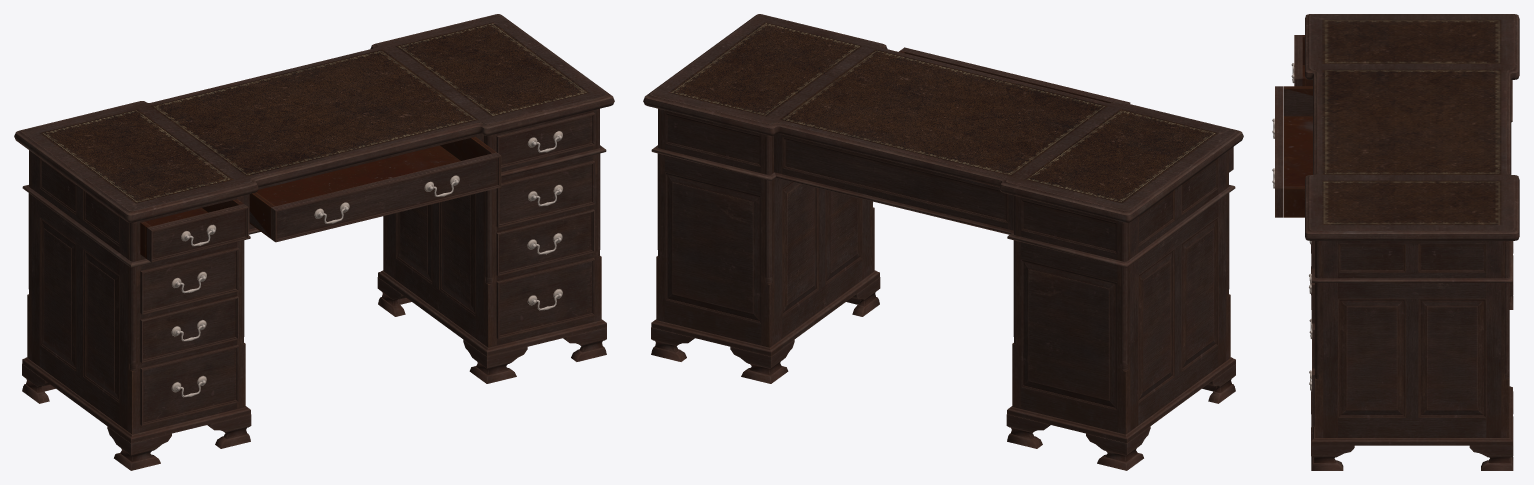
File: desk.fbx
3 views of the same model, side by side, from view 1: azimuth 30°, elevation 25°; view 2: azimuth 150°, elevation 25°; view 3: azimuth 270°, elevation 25° (orthographic). The views are drawn at different scales.
Parts seen in each view (by area): view 1: Desk_low, Draw 2_low, Draw 1_low, Draw 3_low; view 2: Desk_low, Draw 2_low; view 3: Desk_low, Draw 2_low, Draw 1_low.
Part boxes in pixels (x1,y1,x2,y2): Desk_low: [14, 14, 614, 470]; Draw 2_low: [249, 137, 501, 242]; Draw 1_low: [140, 199, 248, 262]; Draw 3_low: [496, 112, 595, 167]; Desk_low: [643, 14, 1243, 470]; Draw 2_low: [899, 47, 1130, 103]; Desk_low: [1305, 14, 1519, 470]; Draw 2_low: [1272, 86, 1312, 217]; Draw 1_low: [1291, 35, 1312, 86].
Size of the model in its own units: 161 by 82.04 by 76.25.
